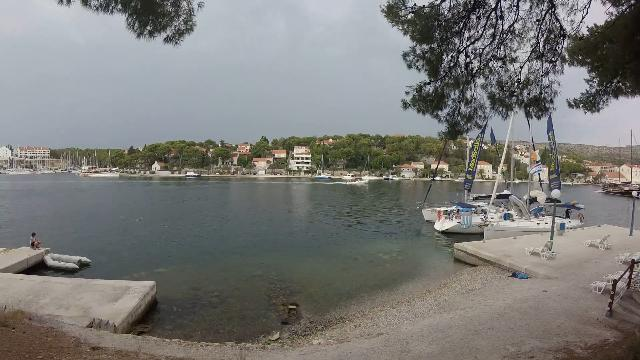speedboat: (346, 174, 376, 190)
